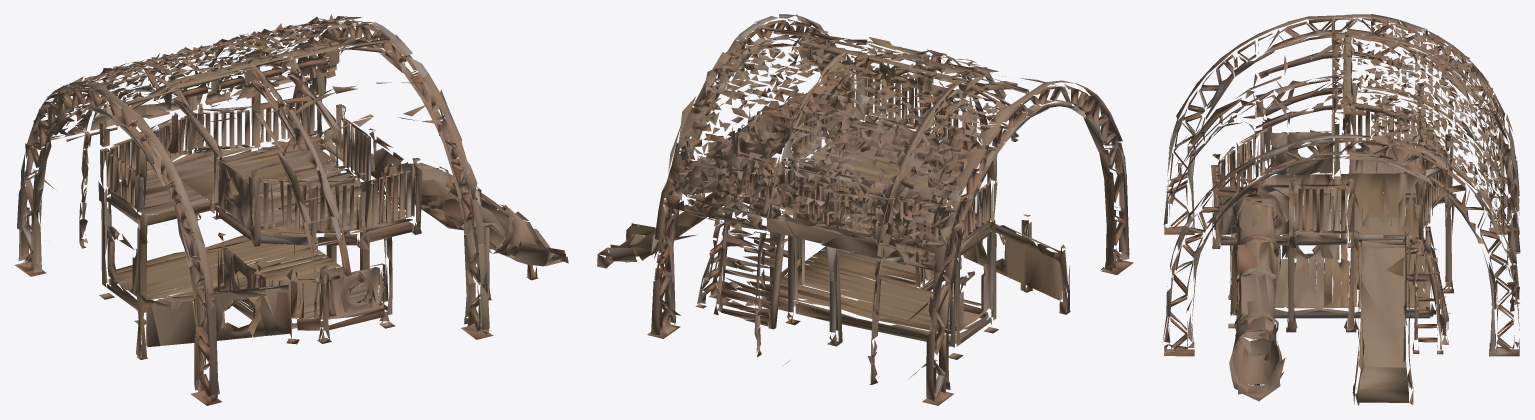
File: little_hangar.glb
3 views of the same model, side by side, from view 1: azimuth 30°, elevation 25°; view 2: azimuth 150°, elevation 25°; view 3: azimuth 270°, elevation 25° (orthographic). The views are drawn at different scales.
Visible parts, largest first — view 1: LO.001; view 2: LO.001; view 3: LO.001.
Part boxes in pixels (x1=…): LO.001: x1=15, y1=14, x2=568, y2=405; LO.001: x1=597, y1=14, x2=1133, y2=405; LO.001: x1=1162, y1=14, x2=1520, y2=405.
Bounding box in the file's own units: 9.75 × 5.65 × 8.02.
1 material, 1 textured.
